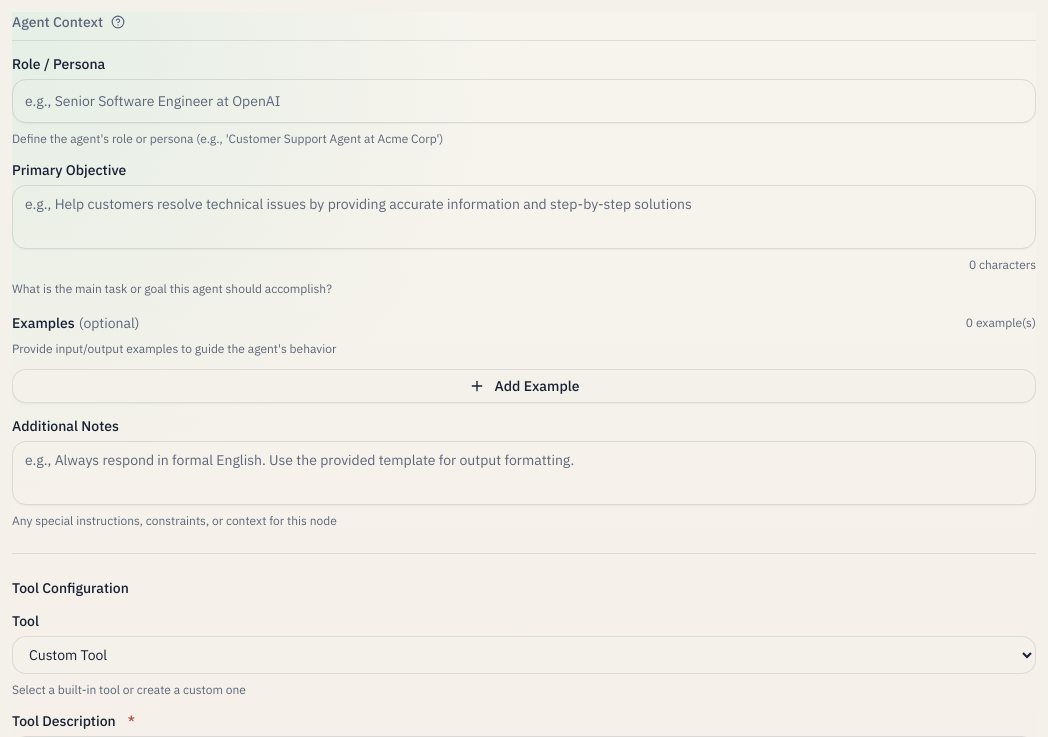
Test: ToolNodeForm › Conditional Field Rendering › should hide custom fields when switching from custom to built-in tool
Select "Web Search" in the dropdown labelled "Tool" at [524, 655], box [12,636,1036,674]
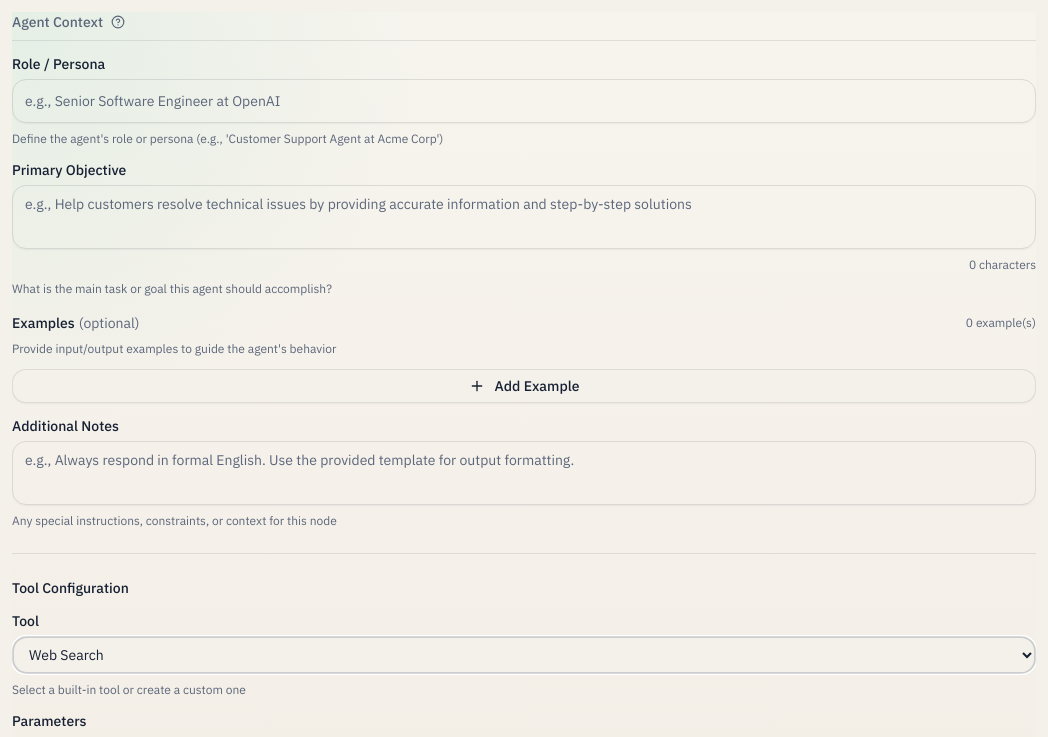
Expected: the label labelled "Tool Description" is gone
